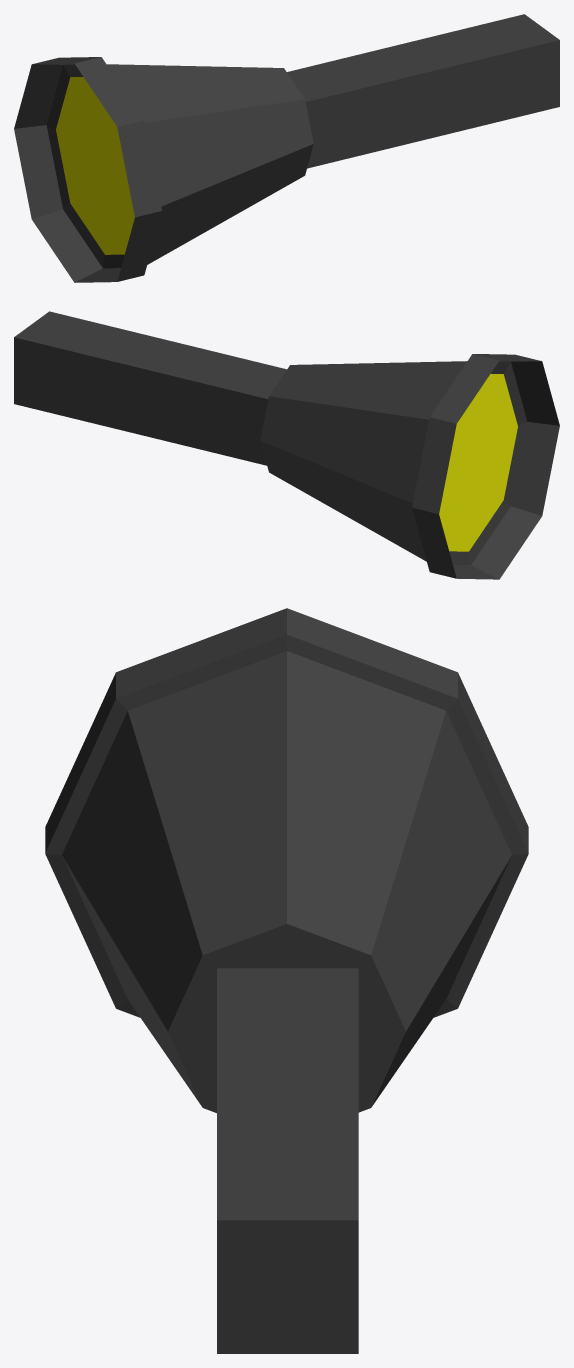
File: flashlight 1.fbx
The picture shows the model from 3 angles, top to bottom: view 1: azimuth 30°, elevation 25°; view 2: azimuth 150°, elevation 25°; view 3: azimuth 270°, elevation 25°; orthographic projection. The views are drawn at different scales.
Parts seen in each view (by area): view 1: Cube; view 2: Cube; view 3: Cube.
Part boxes in pixels (x1,y1,x2,y2): Cube: [14, 14, 559, 282]; Cube: [14, 311, 559, 579]; Cube: [45, 608, 528, 1353].
Bounding box in the file's own units: 3.59 × 1.61 × 1.61.
